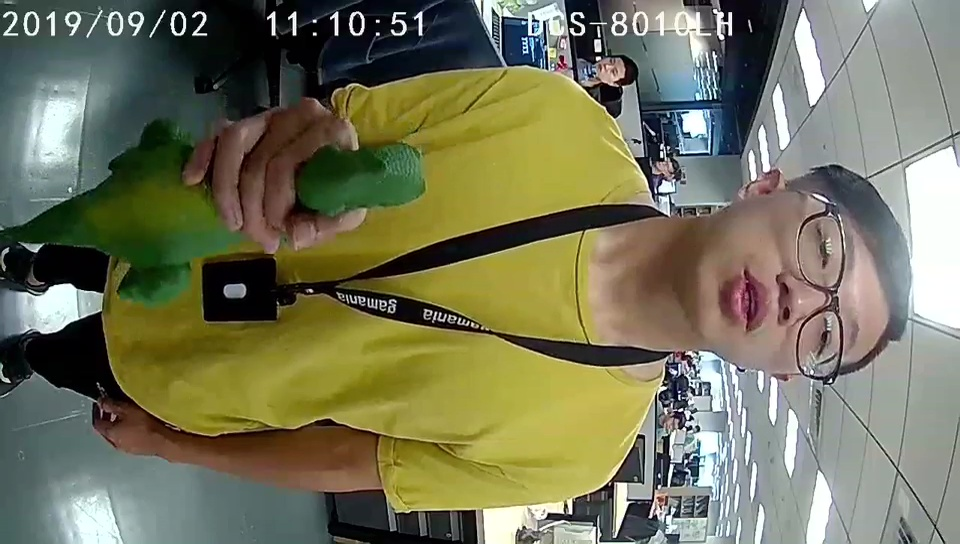rex: (113, 140, 427, 306)
